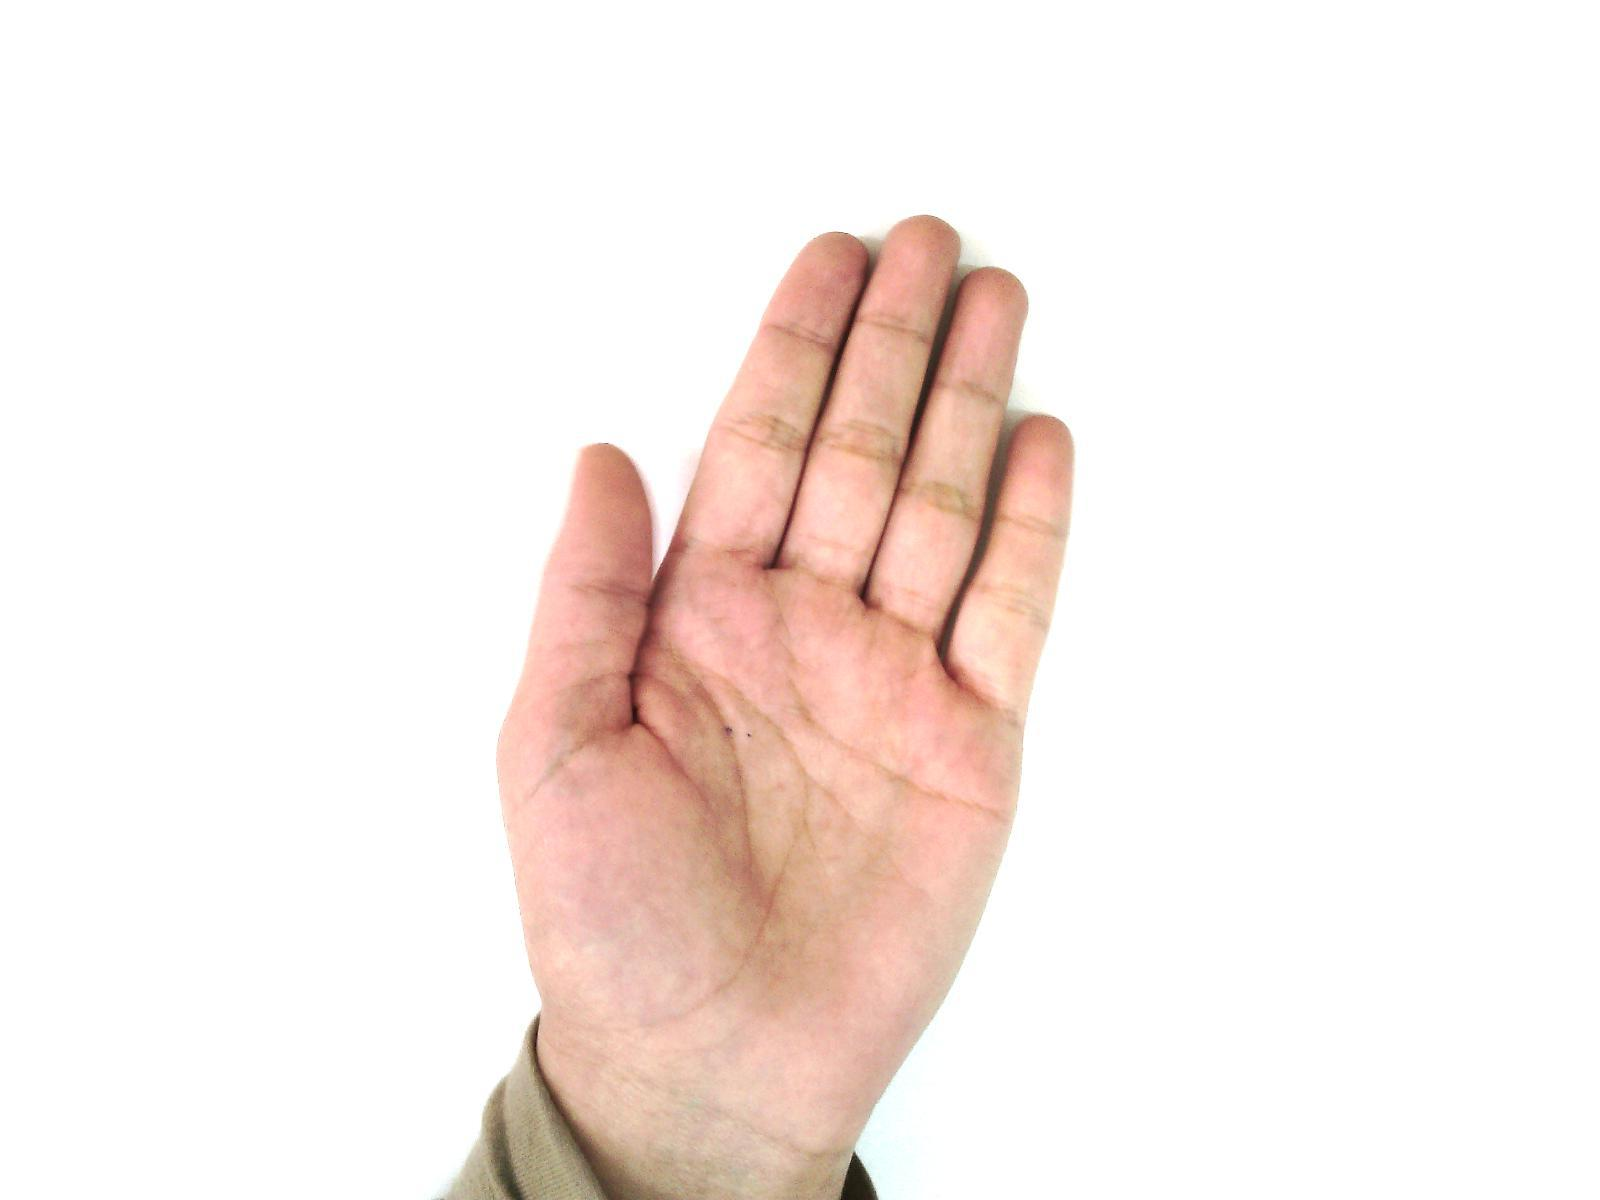hand: (491, 205, 1091, 1058)
